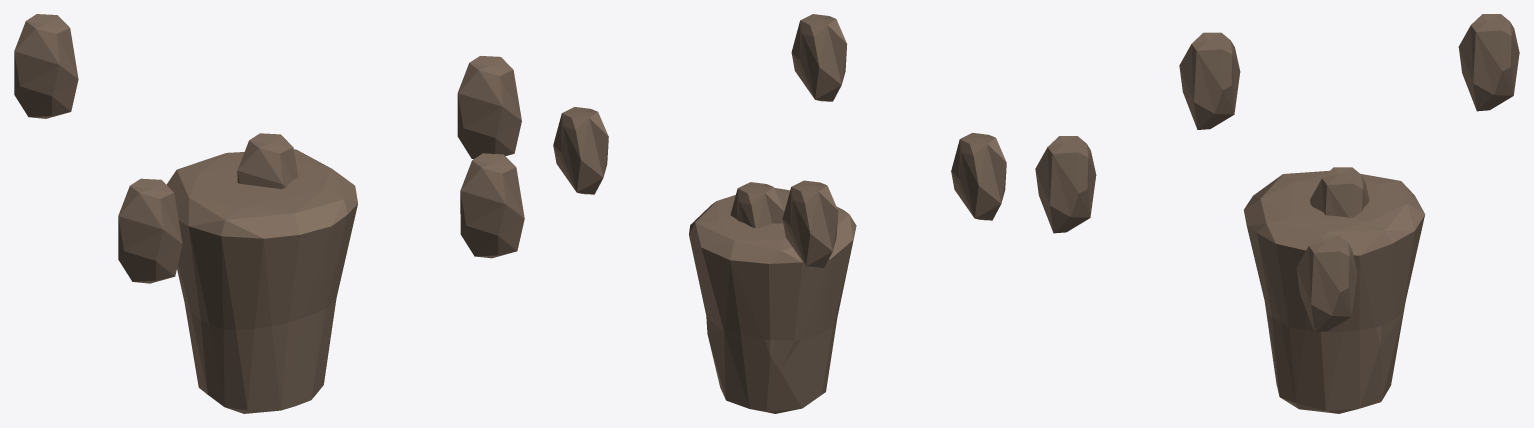
The model's file is Rock_Small.glb.
3 views of the same model, side by side, from view 1: azimuth 30°, elevation 25°; view 2: azimuth 150°, elevation 25°; view 3: azimuth 270°, elevation 25° (orthographic). The views are drawn at different scales.
Visible parts, largest first — view 1: 立方体, 立方体.006, 立方体.004, 立方体.003, 立方体.005, 立方体.001; view 2: 立方体, 立方体.004, 立方体.003, 立方体.006, 立方体.005, 立方体.001; view 3: 立方体, 立方体.004, 立方体.006, 立方体.003, 立方体.005, 立方体.001.
Part boxes in pixels (x1,y1,x2,y2): 立方体: [166, 149, 357, 413]; 立方体.006: [460, 153, 524, 258]; 立方体.004: [118, 178, 182, 283]; 立方体.003: [14, 14, 78, 118]; 立方体.005: [457, 56, 521, 159]; 立方体.001: [237, 133, 298, 189]; 立方体: [689, 188, 856, 413]; 立方体.004: [951, 133, 1006, 220]; 立方体.003: [782, 180, 838, 268]; 立方体.006: [791, 14, 847, 101]; 立方体.005: [553, 107, 608, 194]; 立方体.001: [730, 182, 784, 228]; 立方体: [1244, 170, 1425, 413]; 立方体.004: [1179, 32, 1240, 129]; 立方体.006: [1035, 136, 1096, 233]; 立方体.003: [1458, 14, 1519, 111]; 立方体.005: [1296, 235, 1357, 332]; 立方体.001: [1310, 167, 1369, 217].
Size of the model in its own units: 134 by 95.58 by 131.
